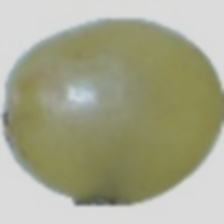grapes: (12, 26, 212, 198)
